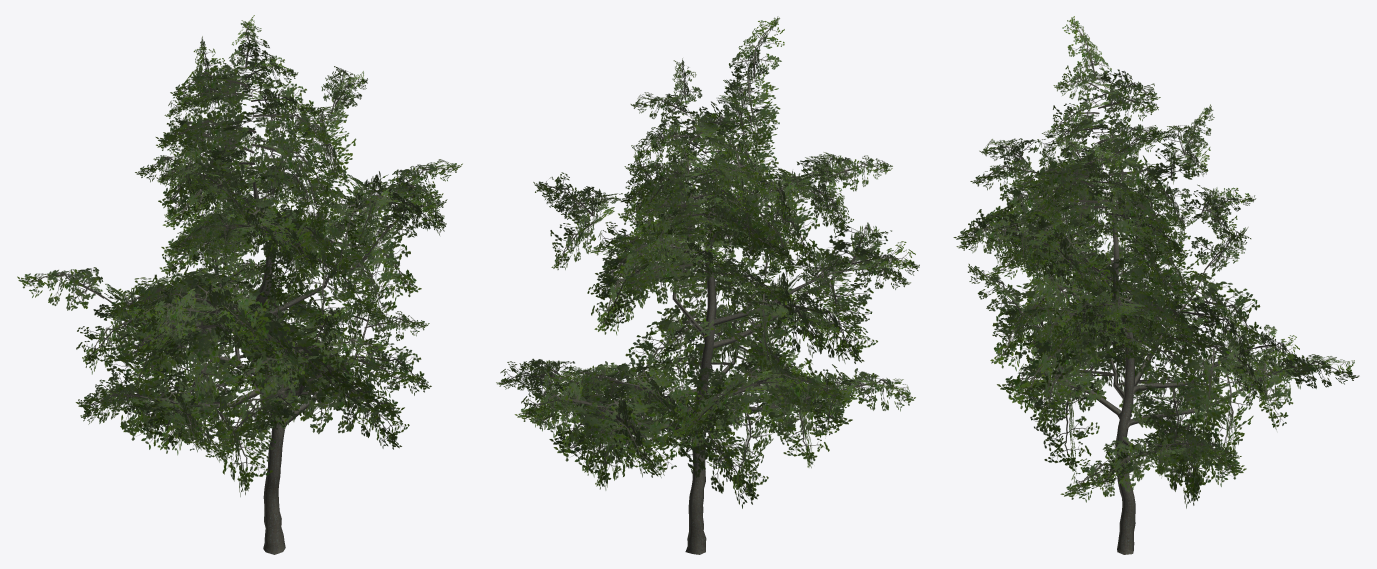
File: oak_medium_3.glb
3 renders of one model, left to right at view 1: azimuth 30°, elevation 25°; view 2: azimuth 150°, elevation 25°; view 3: azimuth 270°, elevation 25°, orthographic. The views are drawn at different scales.
Parts seen in each view (by area): view 1: Medium_oak_tree__003_LOD1; view 2: Medium_oak_tree__003_LOD1; view 3: Medium_oak_tree__003_LOD1.
Boxes of the visible parts, x1,y1,x2,y2 form: Medium_oak_tree__003_LOD1: (17, 15, 462, 554); Medium_oak_tree__003_LOD1: (496, 16, 919, 554); Medium_oak_tree__003_LOD1: (953, 16, 1359, 554).
Size of the model in its own units: 9.4 by 12.69 by 9.31.
Materials: 2 (2 with a texture image).
